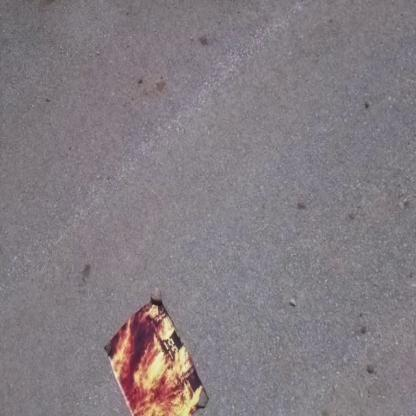fire-poster: (103, 291, 209, 415)
